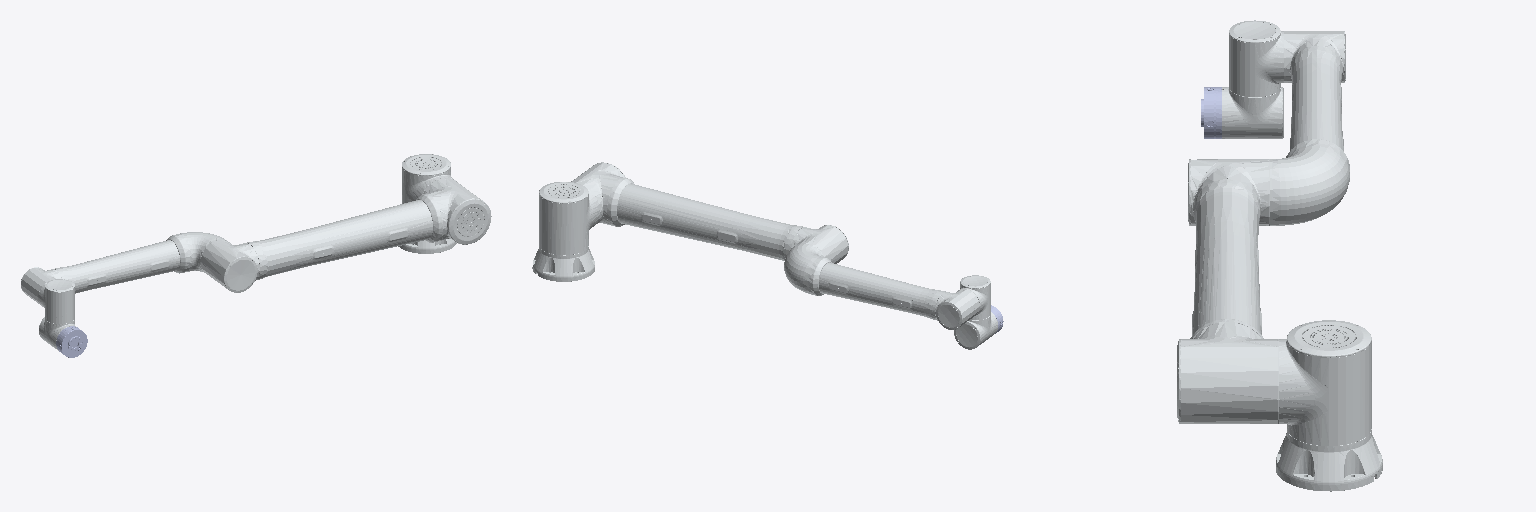
robot.urdf — fairino20_v6_robot:
<?xml version="1.0" encoding="utf-8"?>
<!-- This URDF was automatically created by SolidWorks to URDF Exporter! Originally created by [author] ([email redacted]) 
     Commit Version: 1.5.1-0-g916b5db  Build Version: 1.5.7152.31018
     For more information, please see http://wiki.ros.org/sw_urdf_exporter -->
<robot
  name="fairino20_v6_robot">
  <link
    name="base_link">
    <inertial>
      <origin
        xyz="-2.1681E-05 -6.0648E-05 0.043457"
        rpy="0 0 0" />
      <mass
        value="9.2502" />
      <inertia
        ixx="0.034499"
        ixy="1.6641E-05"
        ixz="-7.478E-06"
        iyy="0.034518"
        iyz="-2.0849E-05"
        izz="0.05496" />
    </inertial>
    <visual>
      <origin
        xyz="0 0 0"
        rpy="0 0 0" />
      <geometry>
        <mesh
          filename="package://fairino_description/meshes/fairino20_v6/base_link.STL" />
      </geometry>
      <material
        name="">
        <color
          rgba="0.89804 0.91765 0.92941 1" />
      </material>
    </visual>
    <collision>
      <origin
        xyz="0 0 0"
        rpy="0 0 0" />
      <geometry>
        <mesh
          filename="package://fairino_description/meshes/fairino20_v6/base_link.STL" />
      </geometry>
    </collision>
  </link>
  <link
    name="shoulder_link">
    <inertial>
      <origin
        xyz="3.9254E-07 -0.010323 0.21287"
        rpy="0 0 0" />
      <mass
        value="19.459" />
      <inertia
        ixx="0.1323"
        ixy="1.0103E-06"
        ixz="-5.944E-07"
        iyy="0.12371"
        iyz="0.00042374"
        izz="0.10228" />
    </inertial>
    <visual>
      <origin
        xyz="0 0 0"
        rpy="0 0 0" />
      <geometry>
        <mesh
          filename="package://fairino_description/meshes/fairino20_v6/shoulder_link.STL" />
      </geometry>
      <material
        name="">
        <color
          rgba="0.89804 0.91765 0.92941 1" />
      </material>
    </visual>
    <collision>
      <origin
        xyz="0 0 0"
        rpy="0 0 0" />
      <geometry>
        <mesh
          filename="package://fairino_description/meshes/fairino20_v6/shoulder_link.STL" />
      </geometry>
    </collision>
  </link>
  <joint
    name="j1"
    type="revolute">
    <origin
      xyz="0 0 0"
      rpy="0 0 0" />
    <parent
      link="base_link" />
    <child
      link="shoulder_link" />
    <axis
      xyz="0 0 1" />
    <limit
      lower="-3.0543"
      upper="3.0543"
      effort="150"
      velocity="3.15" />
    <calibration
      rising="0"
      falling="0" />
    <dynamics
      damping="0"
      friction="0" />
    <safety_controller
      soft_upper_limit="3.0543261"
      soft_lower_limit="-3.0543261"
      k_position="100.0"
      k_velocity="40.0" />
  </joint>
  <link
    name="upperarm_link">
    <inertial>
      <origin
        xyz="-0.42217 4.2066E-06 0.22678"
        rpy="0 0 0" />
      <mass
        value="66.724" />
      <inertia
        ixx="0.2685"
        ixy="4.4967E-05"
        ixz="-0.0061696"
        iyy="8.9785"
        iyz="-8.1844E-06"
        izz="8.9379" />
    </inertial>
    <visual>
      <origin
        xyz="0 0 0"
        rpy="0 0 0" />
      <geometry>
        <mesh
          filename="package://fairino_description/meshes/fairino20_v6/upperarm_link.STL" />
      </geometry>
      <material
        name="">
        <color
          rgba="0.89804 0.91765 0.92941 1" />
      </material>
    </visual>
    <collision>
      <origin
        xyz="0 0 0"
        rpy="0 0 0" />
      <geometry>
        <mesh
          filename="package://fairino_description/meshes/fairino20_v6/upperarm_link.STL" />
      </geometry>
    </collision>
  </link>
  <joint
    name="j2"
    type="revolute">
    <origin
      xyz="0 0 0.215"
      rpy="1.5708 0 0" />
    <parent
      link="shoulder_link" />
    <child
      link="upperarm_link" />
    <axis
      xyz="0 0 1" />
    <limit
      lower="-4.6251"
      upper="1.4835"
      effort="150"
      velocity="3.15" />
    <calibration
      rising="0"
      falling="0" />
    <dynamics
      damping="0"
      friction="0" />
    <safety_controller
      soft_upper_limit="3.0543261"
      soft_lower_limit="-3.0543261"
      k_position="100.0"
      k_velocity="40.0" />
  </joint>
  <link
    name="forearm_link">
    <inertial>
      <origin
        xyz="-0.32102 1.1013E-06 0.036086"
        rpy="0 0 0" />
      <mass
        value="27.942" />
      <inertia
        ixx="0.067382"
        ixy="3.8412E-06"
        ixz="-0.060027"
        iyy="1.8359"
        iyz="1.1904E-06"
        izz="1.8258" />
    </inertial>
    <visual>
      <origin
        xyz="0 0 0"
        rpy="0 0 0" />
      <geometry>
        <mesh
          filename="package://fairino_description/meshes/fairino20_v6/forearm_link.STL" />
      </geometry>
      <material
        name="">
        <color
          rgba="0.89804 0.91765 0.92941 1" />
      </material>
    </visual>
    <collision>
      <origin
        xyz="0 0 0"
        rpy="0 0 0" />
      <geometry>
        <mesh
          filename="package://fairino_description/meshes/fairino20_v6/forearm_link.STL" />
      </geometry>
    </collision>
  </link>
  <joint
    name="j3"
    type="revolute">
    <origin
      xyz="-1 0 0"
      rpy="0 0 0" />
    <parent
      link="upperarm_link" />
    <child
      link="forearm_link" />
    <axis
      xyz="0 0 1" />
    <limit
      lower="-2.8274"
      upper="2.8274"
      effort="150"
      velocity="3.15" />
    <calibration
      rising="0"
      falling="0" />
    <dynamics
      damping="0"
      friction="0" />
    <safety_controller
      soft_upper_limit="3.0543261"
      soft_lower_limit="-3.0543261"
      k_position="100.0"
      k_velocity="40.0" />
  </joint>
  <link
    name="wrist1_link">
    <inertial>
      <origin
        xyz="-1.4575E-06 -0.0065782 0.16163"
        rpy="0 0 0" />
      <mass
        value="4.0932" />
      <inertia
        ixx="0.0093111"
        ixy="7.0183E-08"
        ixz="-1.2872E-07"
        iyy="0.0077482"
        iyz="0.00014273"
        izz="0.0089925" />
    </inertial>
    <visual>
      <origin
        xyz="0 0 0"
        rpy="0 0 0" />
      <geometry>
        <mesh
          filename="package://fairino_description/meshes/fairino20_v6/wrist1_link.STL" />
      </geometry>
      <material
        name="">
        <color
          rgba="0.89804 0.91765 0.92941 1" />
      </material>
    </visual>
    <collision>
      <origin
        xyz="0 0 0"
        rpy="0 0 0" />
      <geometry>
        <mesh
          filename="package://fairino_description/meshes/fairino20_v6/wrist1_link.STL" />
      </geometry>
    </collision>
  </link>
  <joint
    name="j4"
    type="revolute">
    <origin
      xyz="-0.716 0 0"
      rpy="0 0 0" />
    <parent
      link="forearm_link" />
    <child
      link="wrist1_link" />
    <axis
      xyz="0 0 1" />
    <limit
      lower="-4.6251"
      upper="1.4835"
      effort="28"
      velocity="3.2" />
    <calibration
      rising="0"
      falling="0" />
    <dynamics
      damping="0"
      friction="0" />
    <safety_controller
      soft_upper_limit="3.0543261"
      soft_lower_limit="-3.0543261"
      k_position="100.0"
      k_velocity="40.0" />
  </joint>
  <link
    name="wrist2_link">
    <inertial>
      <origin
        xyz="1.1445E-07 0.0065785 0.13363"
        rpy="0 0 0" />
      <mass
        value="4.0931" />
      <inertia
        ixx="0.0093111"
        ixy="3.2335E-09"
        ixz="-2.7278E-08"
        iyy="0.0077479"
        iyz="-0.00014267"
        izz="0.0089922" />
    </inertial>
    <visual>
      <origin
        xyz="0 0 0"
        rpy="0 0 0" />
      <geometry>
        <mesh
          filename="package://fairino_description/meshes/fairino20_v6/wrist2_link.STL" />
      </geometry>
      <material
        name="">
        <color
          rgba="0.89804 0.91765 0.92941 1" />
      </material>
    </visual>
    <collision>
      <origin
        xyz="0 0 0"
        rpy="0 0 0" />
      <geometry>
        <mesh
          filename="package://fairino_description/meshes/fairino20_v6/wrist2_link.STL" />
      </geometry>
    </collision>
  </link>
  <joint
    name="j5"
    type="revolute">
    <origin
      xyz="0 0 0.16601"
      rpy="1.5708 0 0" />
    <parent
      link="wrist1_link" />
    <child
      link="wrist2_link" />
    <axis
      xyz="0 0 1" />
    <limit
      lower="-3.0543"
      upper="3.0543"
      effort="28"
      velocity="3.2" />
    <calibration
      rising="0"
      falling="0" />
    <dynamics
      damping="0"
      friction="0" />
    <safety_controller
      soft_upper_limit="3.0543261"
      soft_lower_limit="-3.0543261"
      k_position="100.0"
      k_velocity="40.0" />
  </joint>
  <link
    name="wrist3_link">
    <inertial>
      <origin
        xyz="-0.00011258 -0.00010438 0.095779"
        rpy="0 0 0" />
      <mass
        value="1.1151" />
      <inertia
        ixx="0.0010481"
        ixy="3.93E-10"
        ixz="8.9623E-09"
        iyy="0.001048"
        iyz="1.7247E-09"
        izz="0.0018226" />
    </inertial>
    <visual>
      <origin
        xyz="0 0 0"
        rpy="0 0 0" />
      <geometry>
        <mesh
          filename="package://fairino_description/meshes/fairino20_v6/wrist3_link.STL" />
      </geometry>
      <material
        name="">
        <color
          rgba="0.79216 0.81961 0.93333 1" />
      </material>
    </visual>
    <collision>
      <origin
        xyz="0 0 0"
        rpy="0 0 0" />
      <geometry>
        <mesh
          filename="package://fairino_description/meshes/fairino20_v6/wrist3_link.STL" />
      </geometry>
    </collision>
  </link>
  <joint
    name="j6"
    type="revolute">
    <origin
      xyz="0 0 0.138"
      rpy="-1.5708 0 0" />
    <parent
      link="wrist2_link" />
    <child
      link="wrist3_link" />
    <axis
      xyz="0 0 1" />
    <limit
      lower="-3.0543"
      upper="3.0543"
      effort="28"
      velocity="3.2" />
    <calibration
      rising="0"
      falling="0" />
    <dynamics
      damping="0"
      friction="0" />
    <safety_controller
      soft_upper_limit="3.0543261"
      soft_lower_limit="-3.0543261"
      k_position="100.0"
      k_velocity="40.0" />
  </joint>
</robot>

--- Facts derived from the render (not from the file) ---
Views: 3 orthographic renders of the robot side by side, from view 1: azimuth 30°, elevation 25°; view 2: azimuth 150°, elevation 25°; view 3: azimuth 270°, elevation 25°.
Robot: fairino20_v6_robot — 7 links, 6 joints (6 revolute); root link base_link; default pose: every joint at zero.
Links seen in each view (by area): view 1: upperarm_link, forearm_link, shoulder_link, wrist1_link, wrist3_link, base_link; view 2: upperarm_link, forearm_link, shoulder_link, base_link, wrist2_link, wrist1_link; view 3: upperarm_link, forearm_link, shoulder_link, base_link, wrist1_link, wrist2_link, wrist3_link.
Boxes of the visible links, x1,y1,x2,y2 form: upperarm_link: (201, 178, 491, 292); forearm_link: (21, 232, 226, 303); shoulder_link: (402, 154, 456, 203); wrist1_link: (38, 279, 74, 323); wrist3_link: (56, 326, 87, 357); base_link: (398, 239, 456, 253); upperarm_link: (571, 162, 848, 263); forearm_link: (784, 242, 979, 329); shoulder_link: (539, 182, 599, 254); base_link: (532, 246, 594, 281); wrist2_link: (954, 312, 997, 349); wrist1_link: (958, 275, 990, 319); upperarm_link: (1177, 159, 1278, 423); forearm_link: (1270, 31, 1349, 225); shoulder_link: (1279, 320, 1371, 445); base_link: (1276, 429, 1382, 491); wrist1_link: (1229, 20, 1283, 96); wrist2_link: (1222, 87, 1283, 138); wrist3_link: (1201, 87, 1221, 138).
Bounding box of the posed robot: 1.89 × 0.46 × 0.327 m (x, y, z).
7 mesh visuals loaded from 7 distinct referenced files (7 binary STL).
